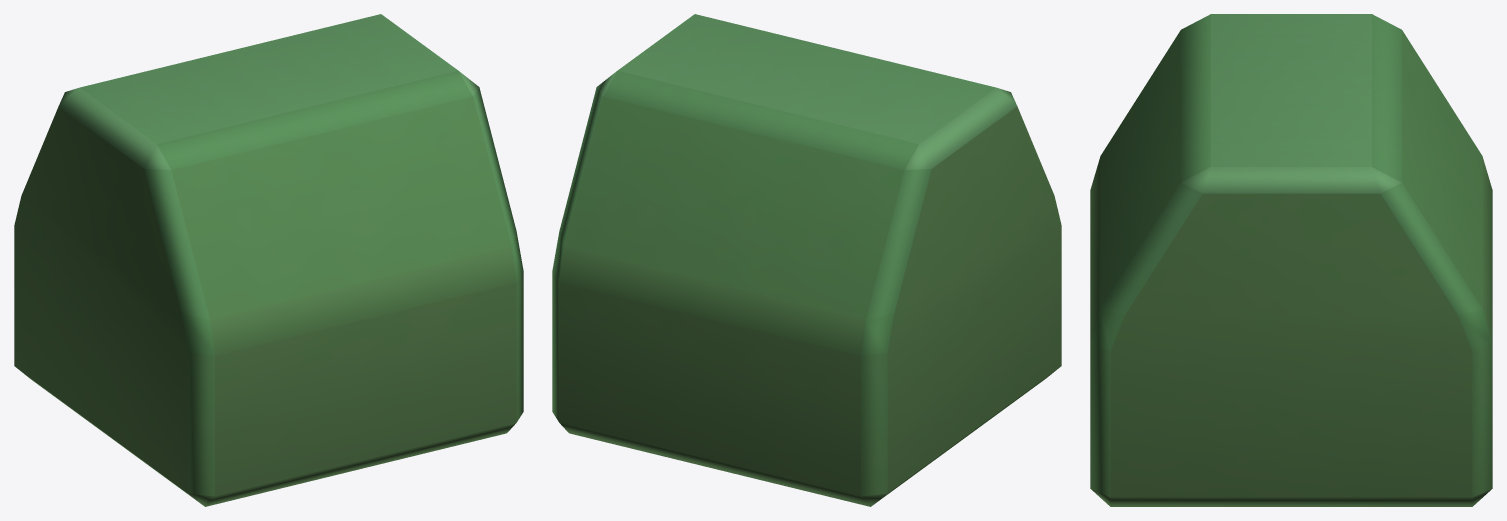
File: railing_straight.fbx
The picture shows the model from 3 angles, left to right: view 1: azimuth 30°, elevation 25°; view 2: azimuth 150°, elevation 25°; view 3: azimuth 270°, elevation 25°; orthographic projection. The views are drawn at different scales.
Parts seen in each view (by area): view 1: railing_straight; view 2: railing_straight; view 3: railing_straight.
Part boxes in pixels (x1,y1,x2,y2): railing_straight: [14, 14, 523, 506]; railing_straight: [552, 14, 1061, 506]; railing_straight: [1090, 14, 1492, 506].
Size of the model in its own units: 100 by 93.3 by 100.
